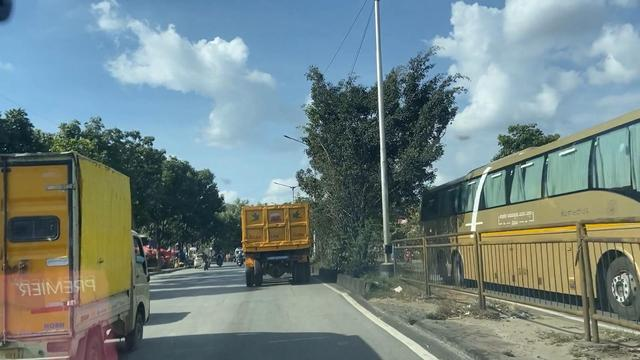HMV: (12, 152, 150, 357), (241, 200, 311, 279)
